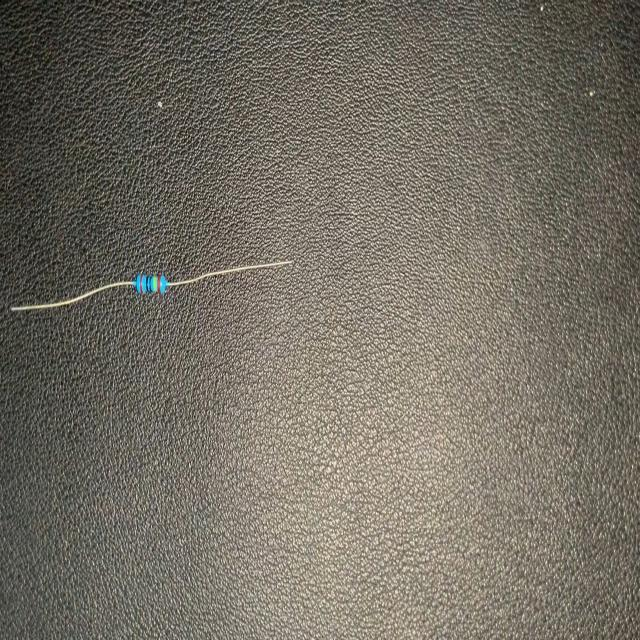resistor: (9, 254, 295, 315)
